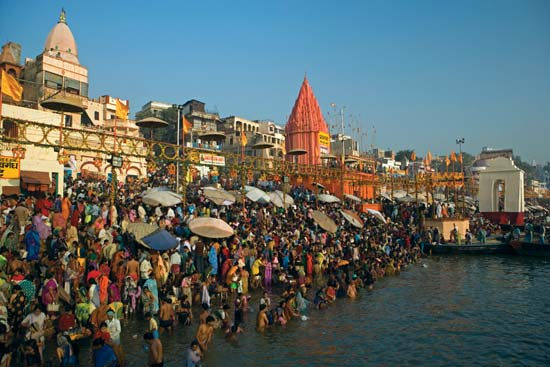person: (12, 188, 541, 364), (11, 194, 251, 299)
